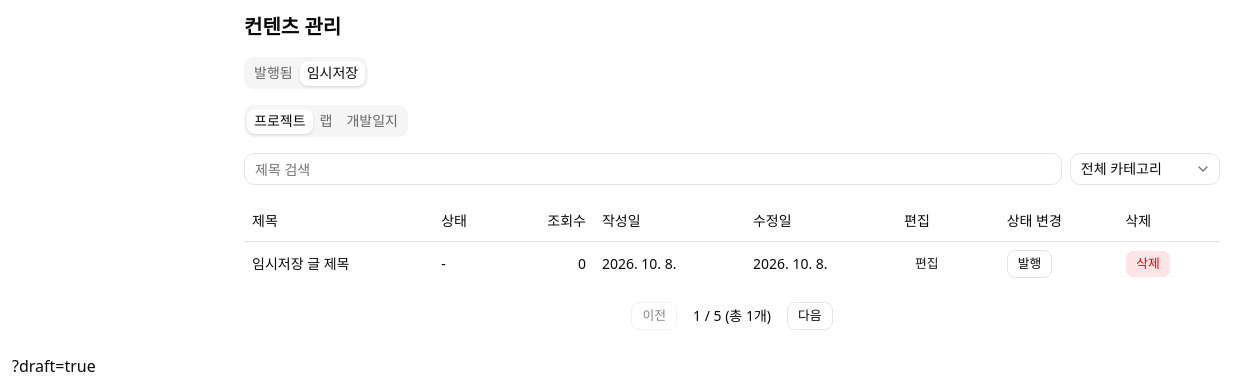
Scenario: PostListPage 보기 전환 › 정상 › 임시저장에서 발행됨 탭을 누르면 draft가 주소에서 사라지고 draft: false로 조회해야 한다
This screenshot has width=1237, height=389.
Expected: the text "임시저장 글 제목" is shown, [244, 241, 433, 286]
Click the tab "발행됨" at (273, 73), box [247, 60, 300, 86]
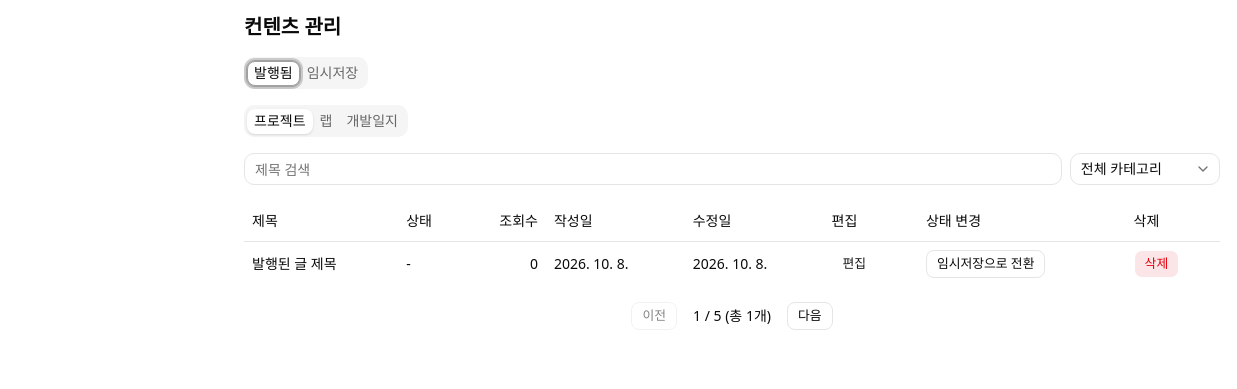
Expected: the text "발행된 글 제목" is shown, [244, 241, 398, 286]
